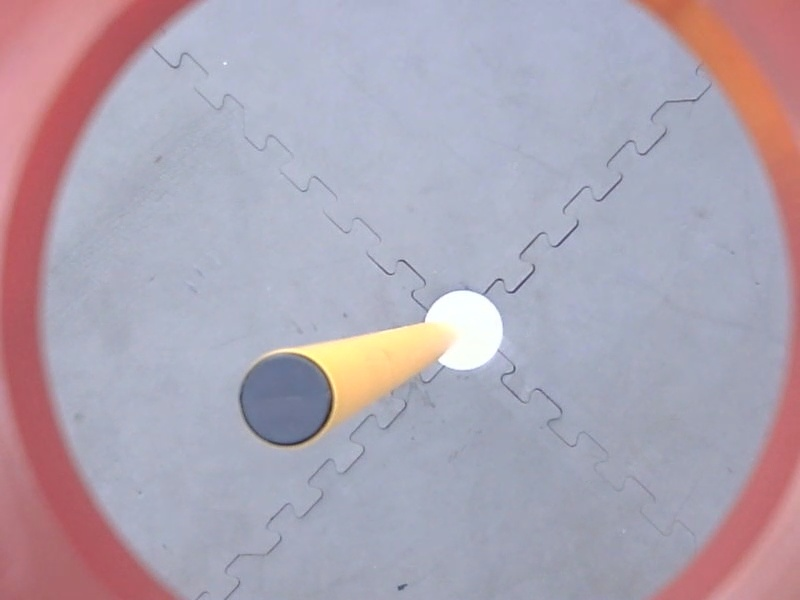tip: (229, 343, 343, 455)
